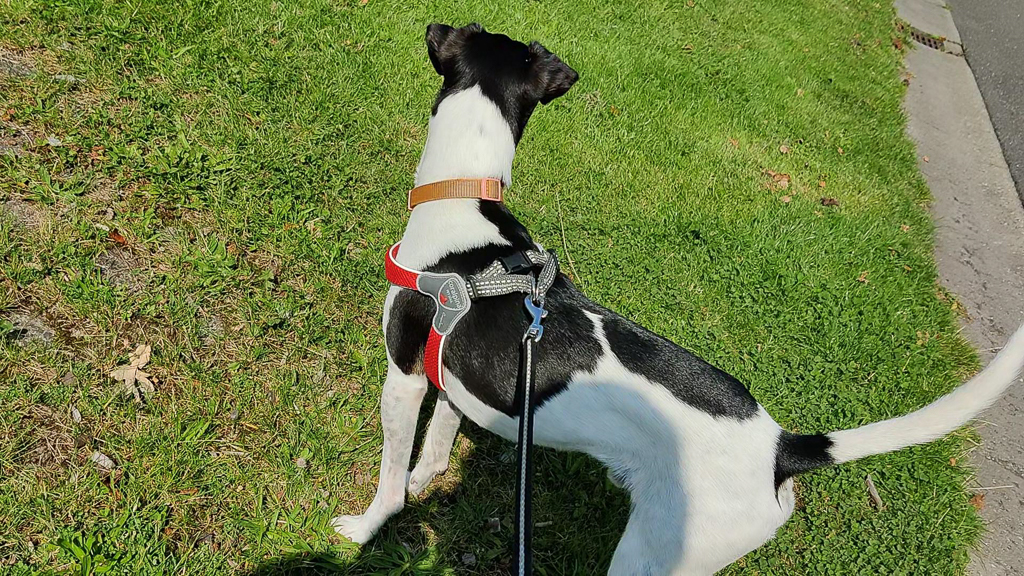Dog: (323, 12, 1024, 576)
